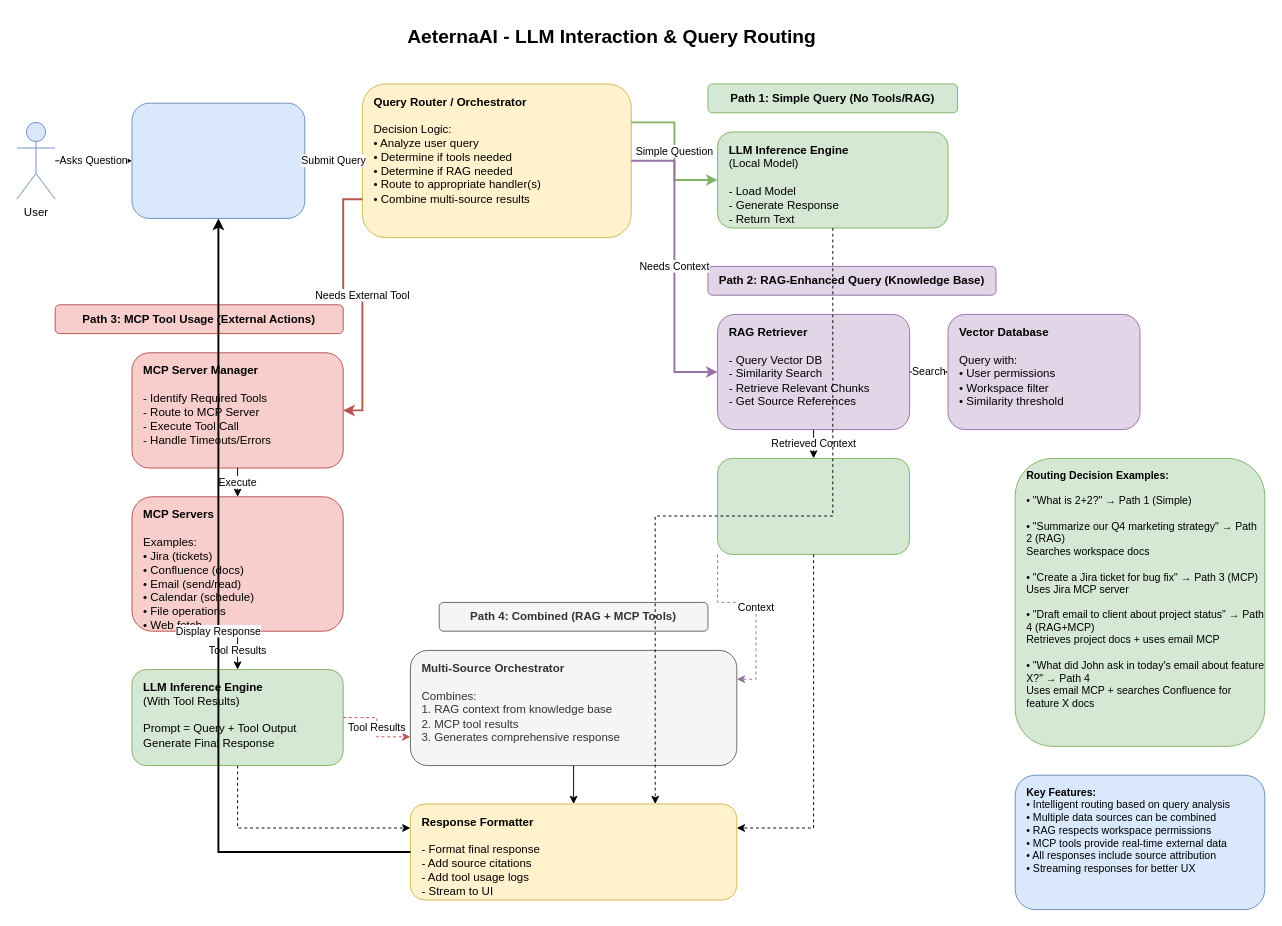
This 1282x926 diagram has some shape labels left out. The shapes that lost their labels are listed below. From the top down, each one's centre as x and y in pixels, then its label:
At (218,160): "Chat UI - Message Input - Thread History - Tool Usage Display - Source Citations".
At (813,505): "LLM Inference Engine (With Context) Prompt = Query + Context + Source Citations".
